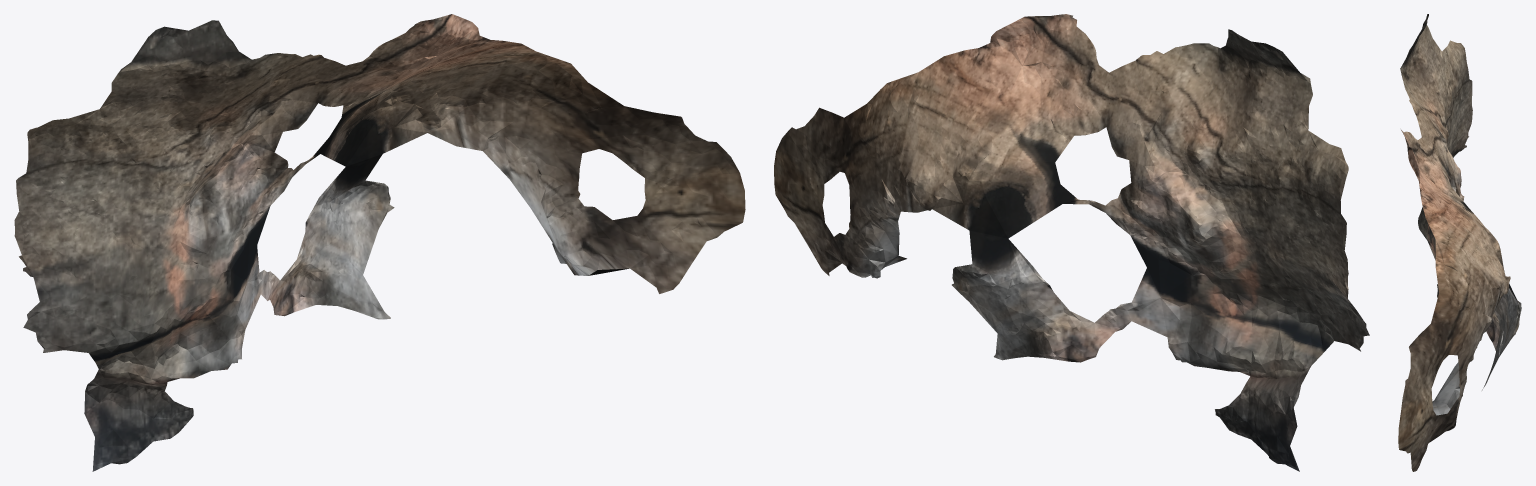
3 views of the same model, side by side, from view 1: azimuth 30°, elevation 25°; view 2: azimuth 150°, elevation 25°; view 3: azimuth 270°, elevation 25° (orthographic). The views are drawn at different scales.
Visible parts, largest first — view 1: TexturedMesh; view 2: TexturedMesh; view 3: TexturedMesh.
Boxes of the visible parts, x1,y1,x2,y2 form: TexturedMesh: (14, 14, 745, 471); TexturedMesh: (774, 14, 1369, 471); TexturedMesh: (1398, 14, 1521, 471).
Bounding box in the file's own units: 2.26 × 1.4 × 0.4776.
Materials: 1 (1 with a texture image).
